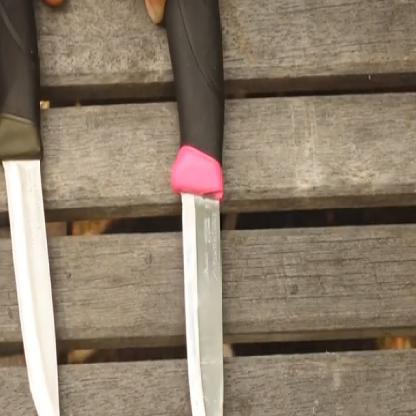knife: (131, 0, 250, 415), (0, 0, 71, 415)
